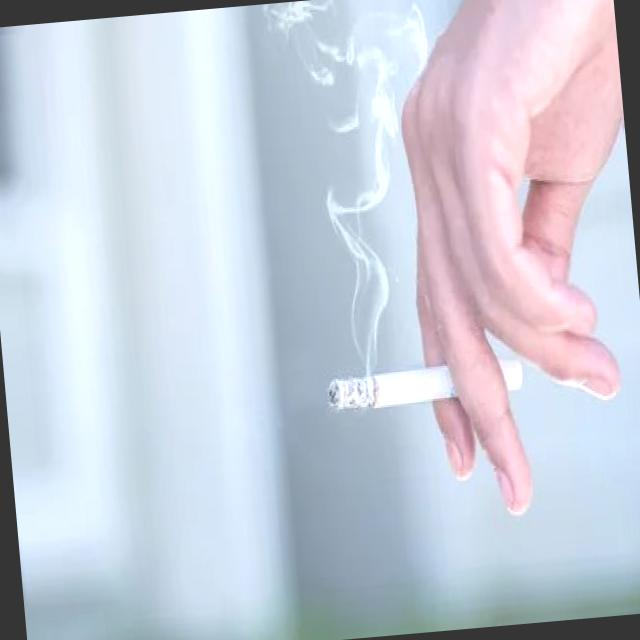smoke: (320, 352, 526, 420)
